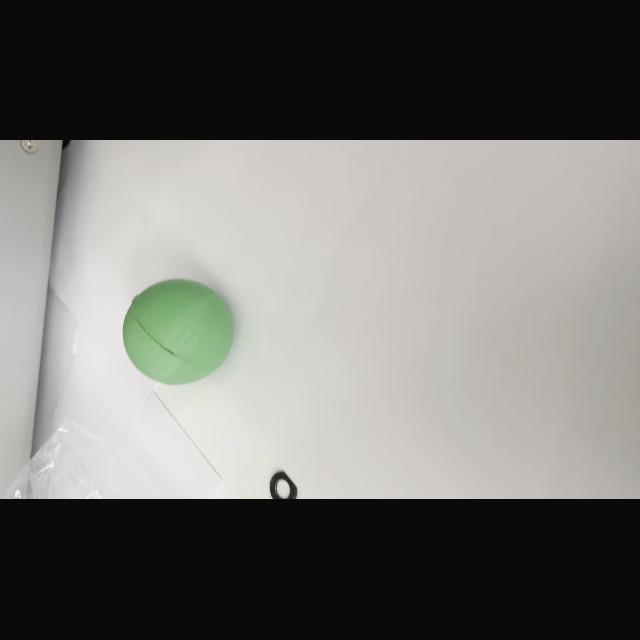objects: (116, 273, 242, 392)
